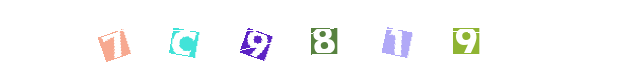1: (334, 0, 414, 80)
7: (104, 0, 184, 80)
8: (271, 0, 351, 80)
9: (215, 0, 295, 80), (359, 0, 439, 80)
C: (145, 0, 225, 80)
